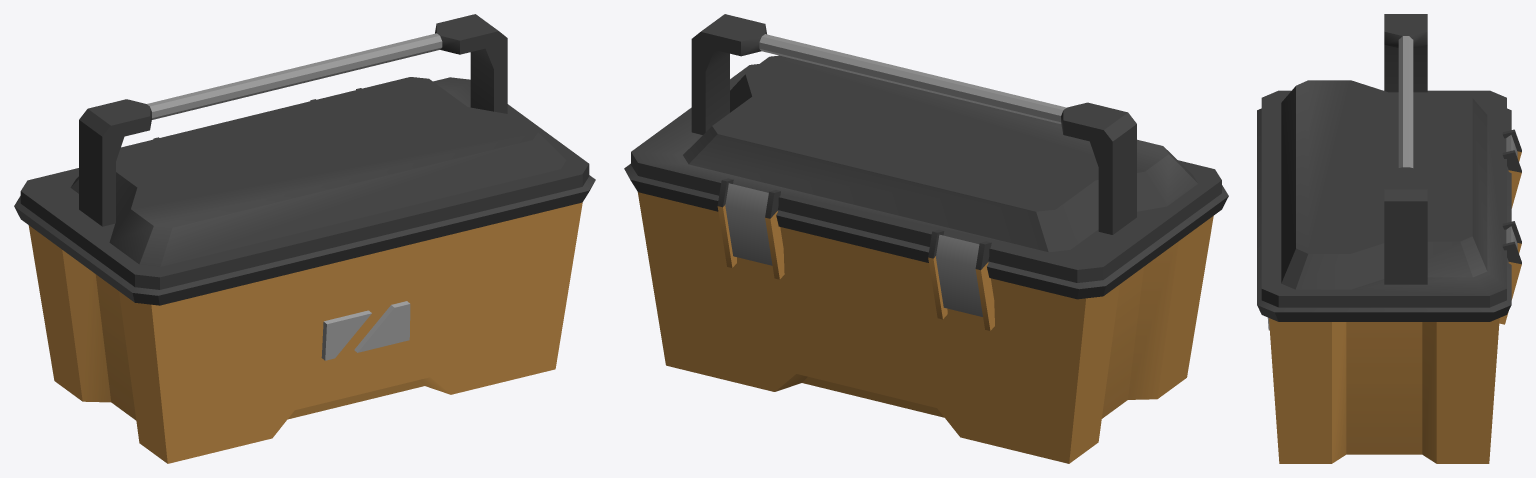
File: ToolCrate2.fbx
3 views of the same model, side by side, from view 1: azimuth 30°, elevation 25°; view 2: azimuth 150°, elevation 25°; view 3: azimuth 270°, elevation 25° (orthographic). The views are drawn at different scales.
Visible parts, largest first — view 1: isl_ToolCrate_02_Def.obj; view 2: isl_ToolCrate_02_Def.obj; view 3: isl_ToolCrate_02_Def.obj.
Part boxes in pixels (x1,y1,x2,y2): isl_ToolCrate_02_Def.obj: [14, 14, 595, 463]; isl_ToolCrate_02_Def.obj: [624, 14, 1228, 463]; isl_ToolCrate_02_Def.obj: [1257, 14, 1521, 463].
Size of the model in its own units: 42.91 by 26.25 by 22.93.
